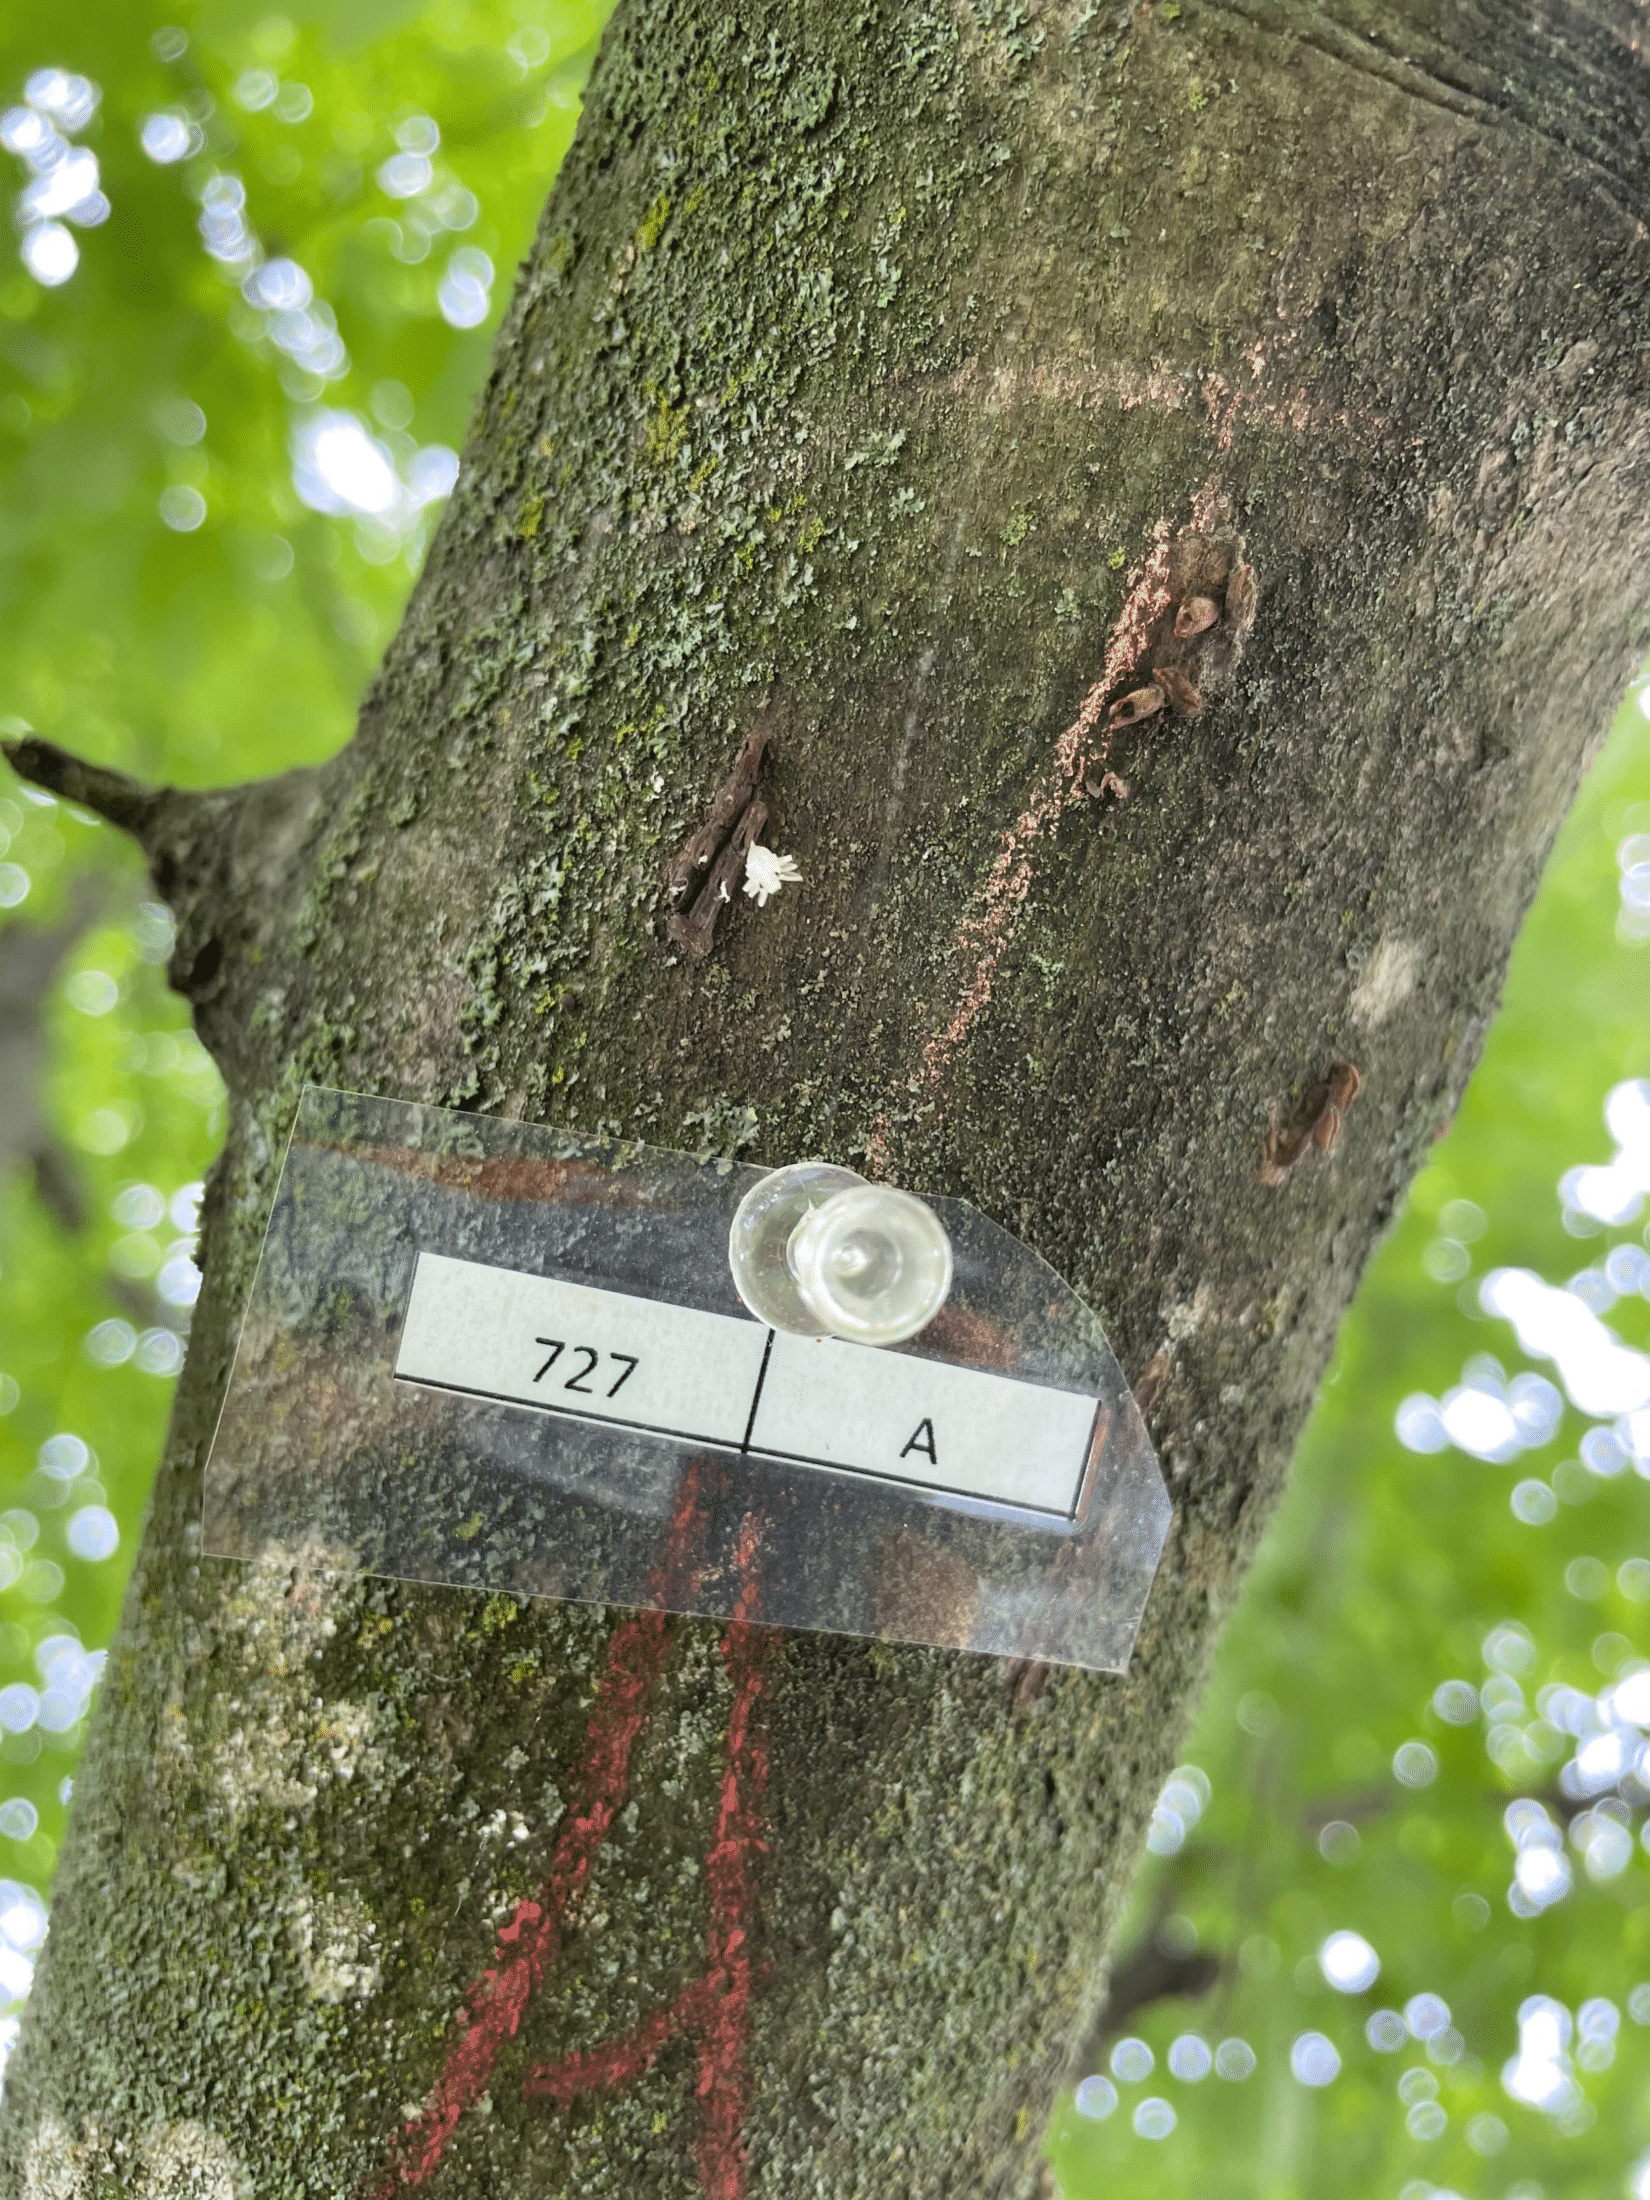egg masses: (884, 435, 1269, 1152)
